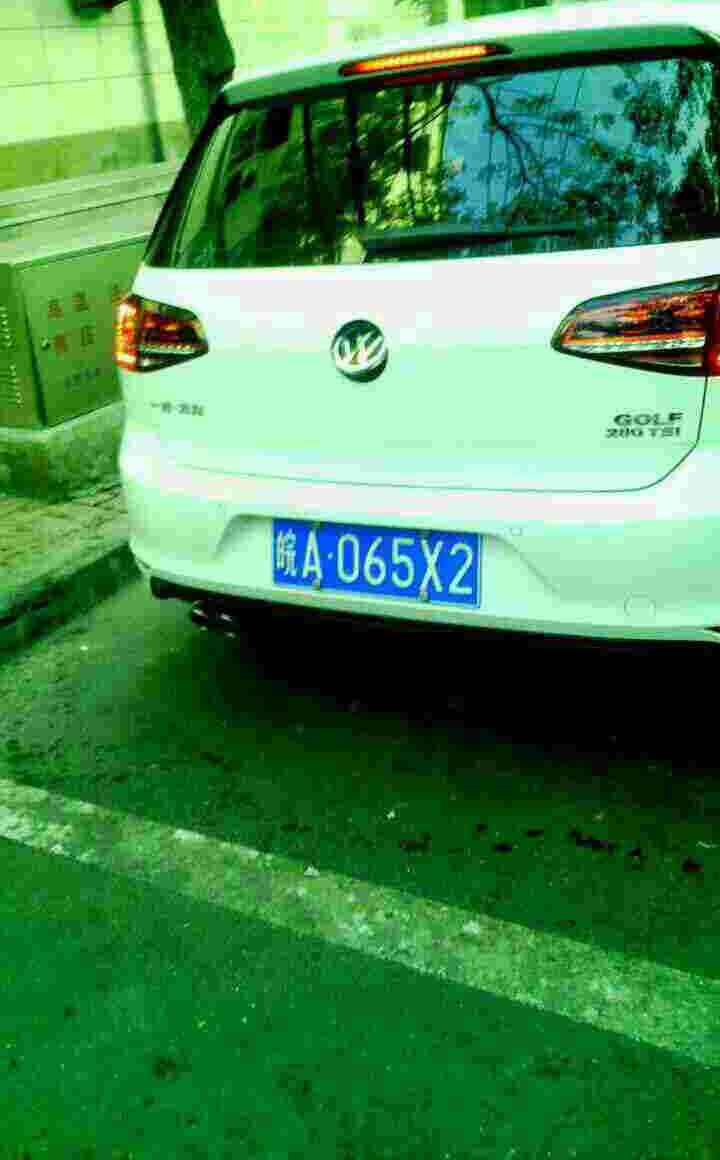plate: (268, 509, 481, 612)
